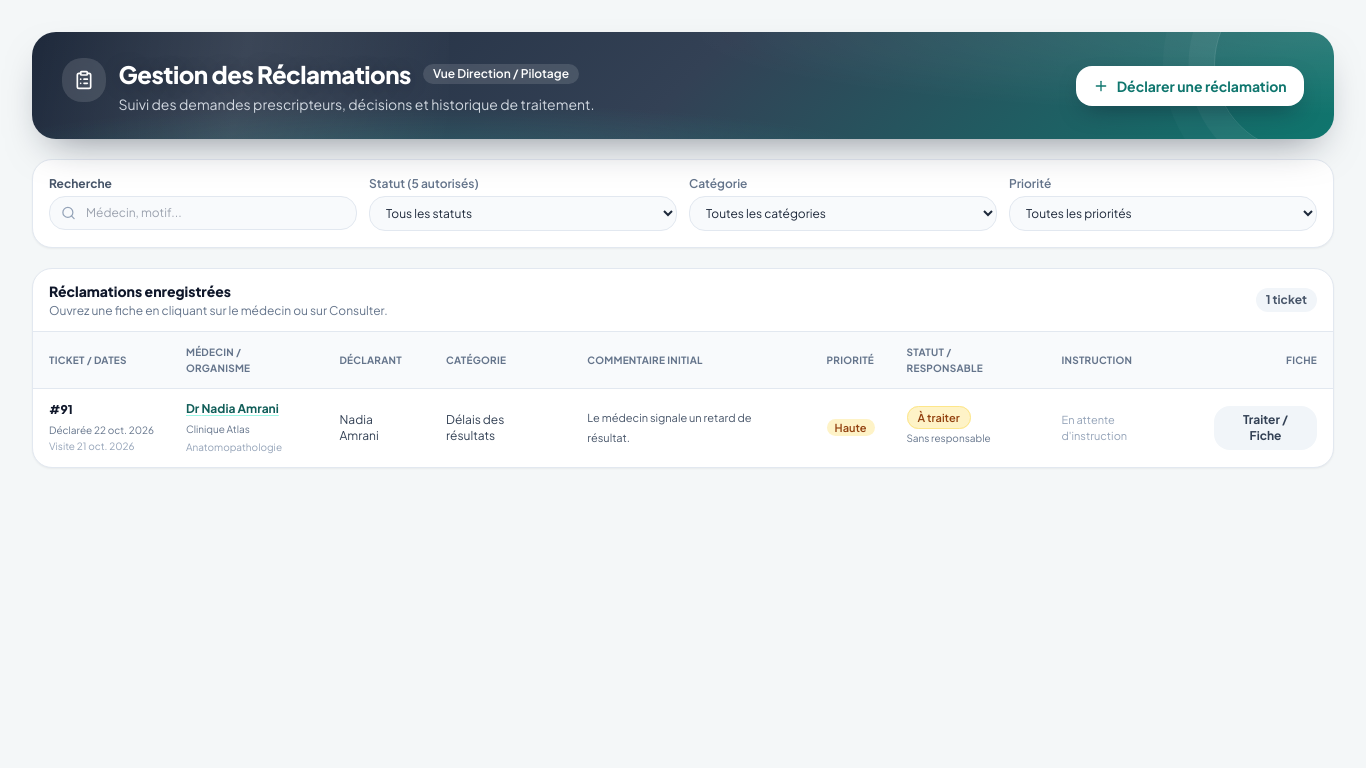
ReclamationsPage › opens the full complaint when clicking the doctor and displays its comment
This screenshot has width=1366, height=768.
Click the button with aria-label "Ouvrir la réclamation #91": (232,409) [186,401,279,417]
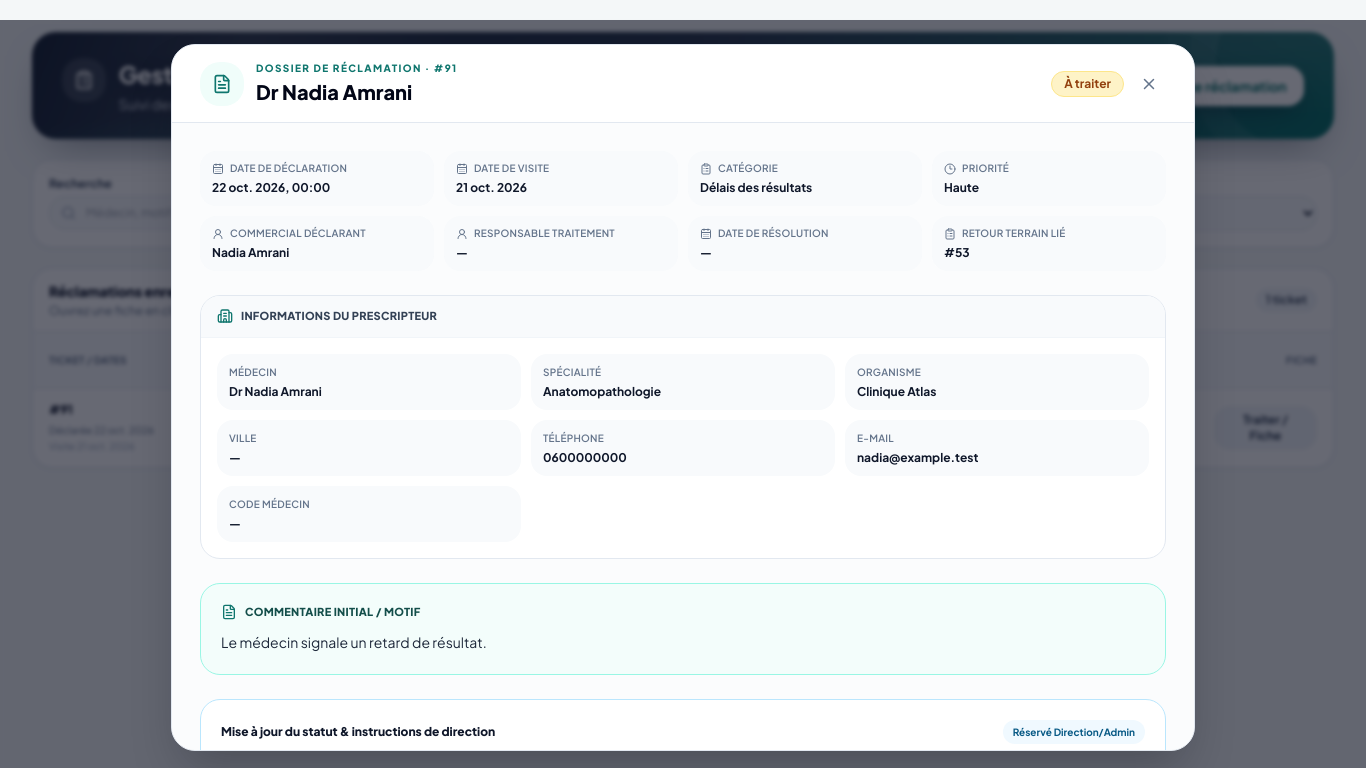
Expected: the dialog is shown
Expected: the text "Le médecin signale un retard de résultat." is shown, [221,633,487,651]
Expected: the text "Clinique Atlas" is shown, [857,384,936,398]
